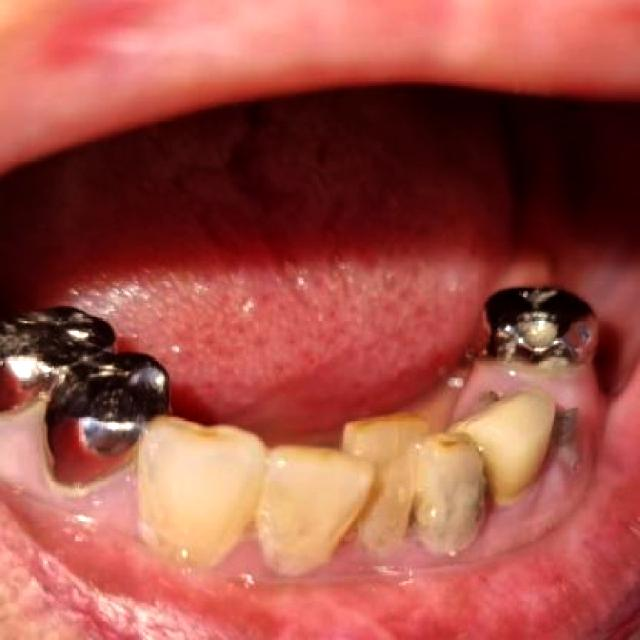Plaque: (443, 453, 502, 537), (545, 398, 593, 465)
